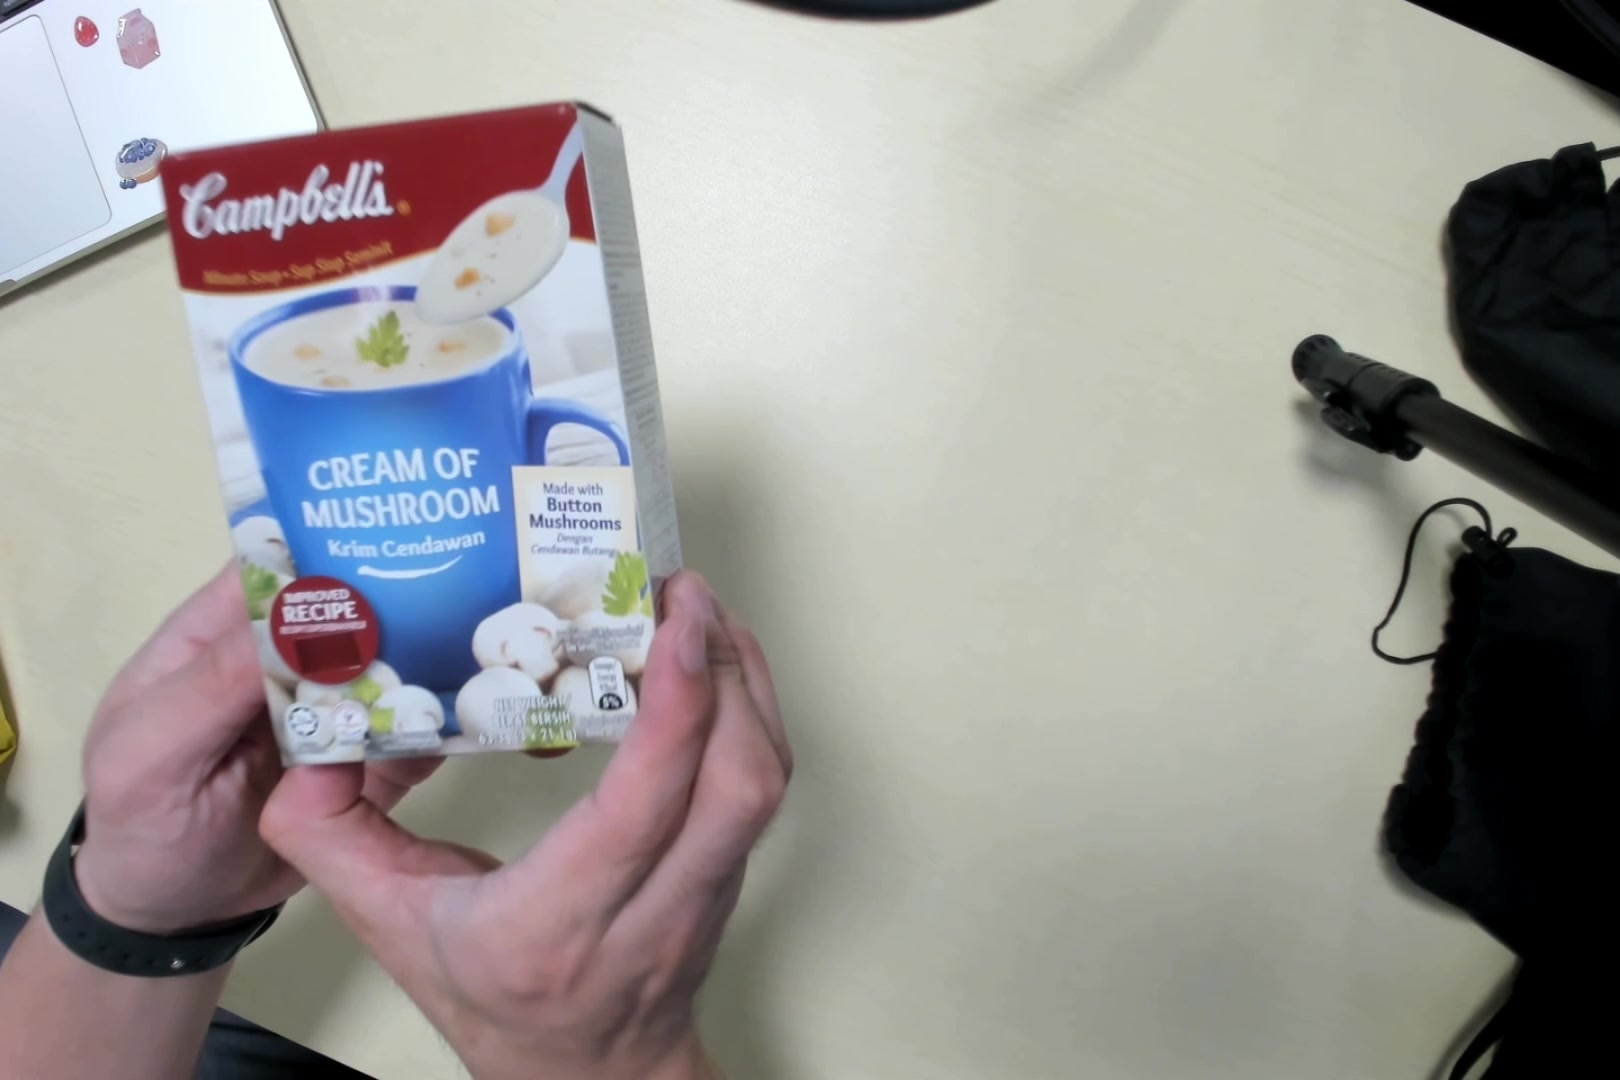InstantMeals_0-99g_Halal_NonHealthy: (164, 147, 685, 761)
